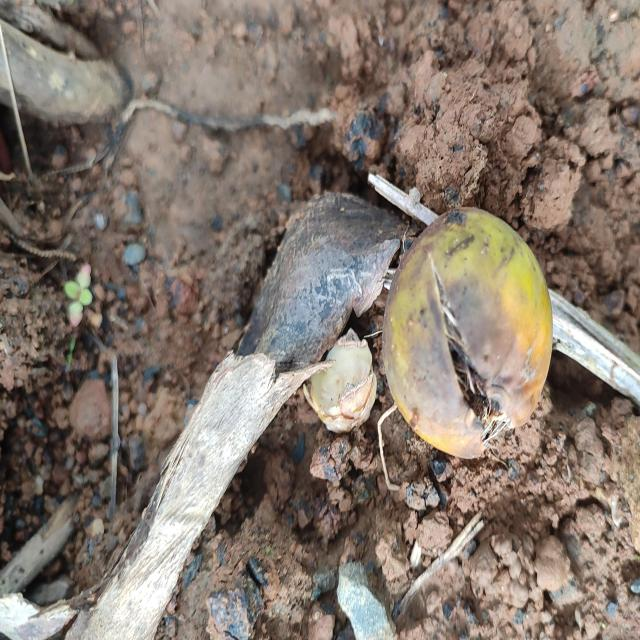damaged: (371, 208, 554, 462)
